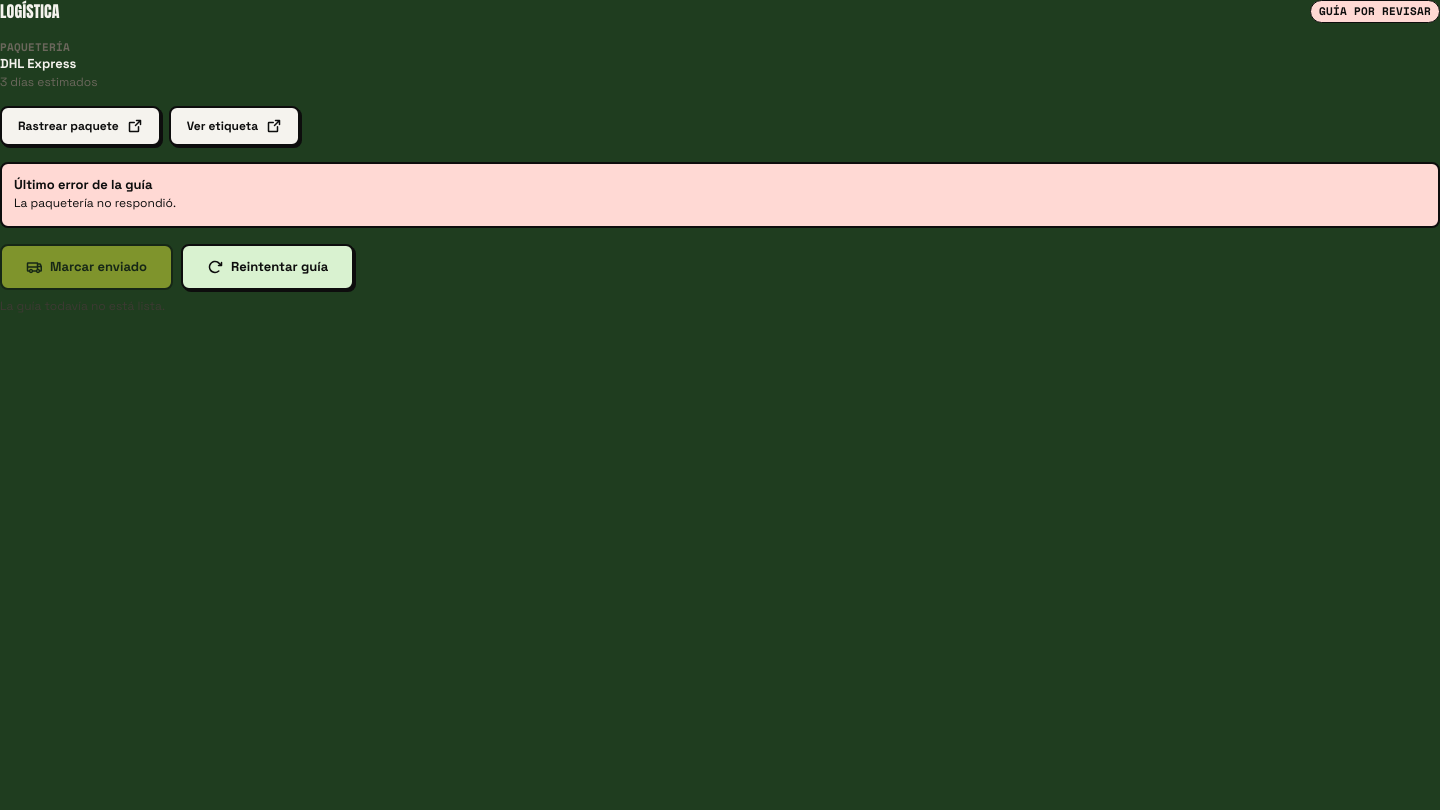
LogisticsCard: reintentar guía › guía por revisar: pide confirmación con la advertencia de la segunda guía
The width and height of the screenshot is (1440, 810).
Check: the text "La paquetería no respondió." is shown, box [14,195,176,211]
Click the button "Reintentar guía" at (268, 267), box [181,244,354,290]
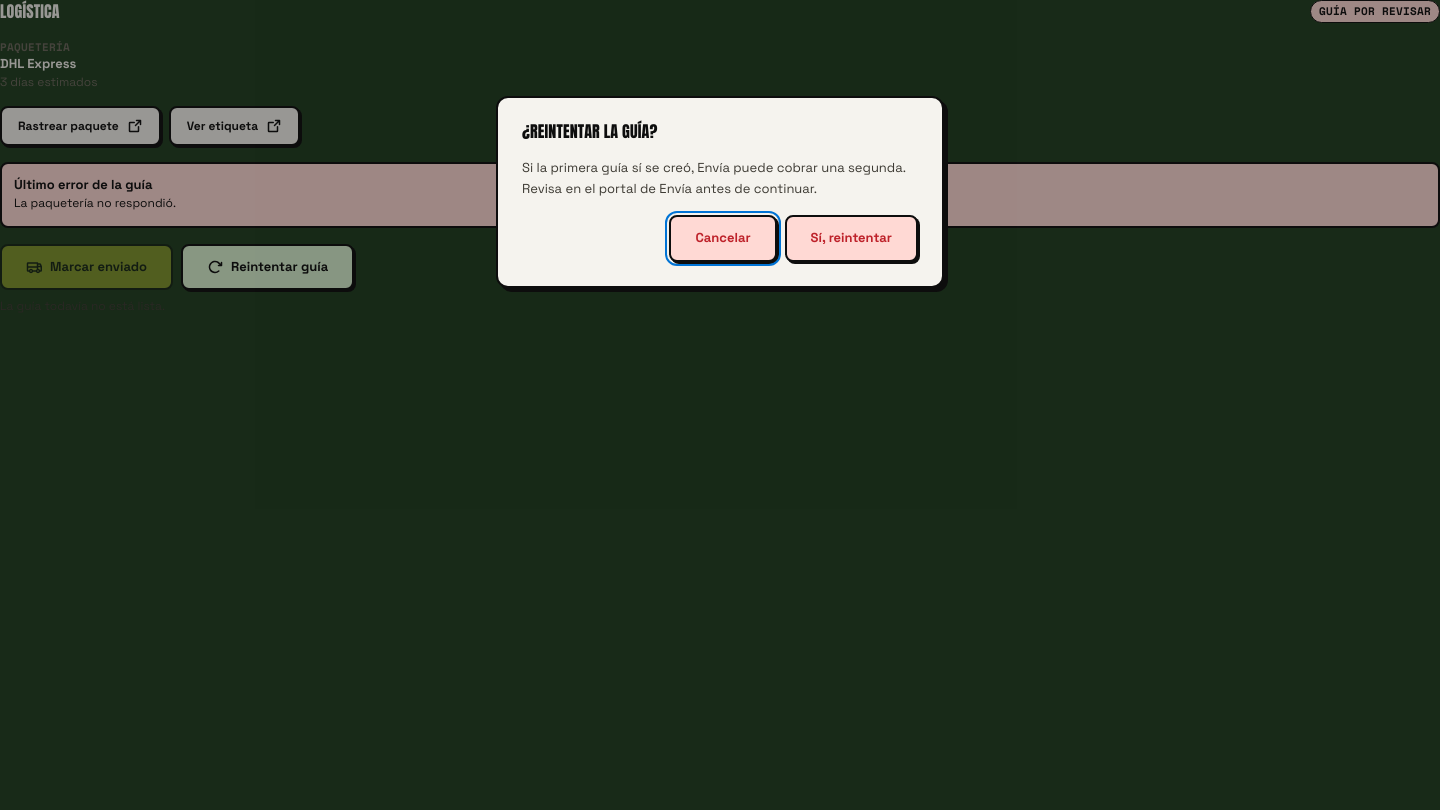
Check: the dialog shows "Envía puede cobrar una segunda", box [522,159,906,197]
Click the button "Sí, reintentar" at (851, 239), box [785,215,918,262]
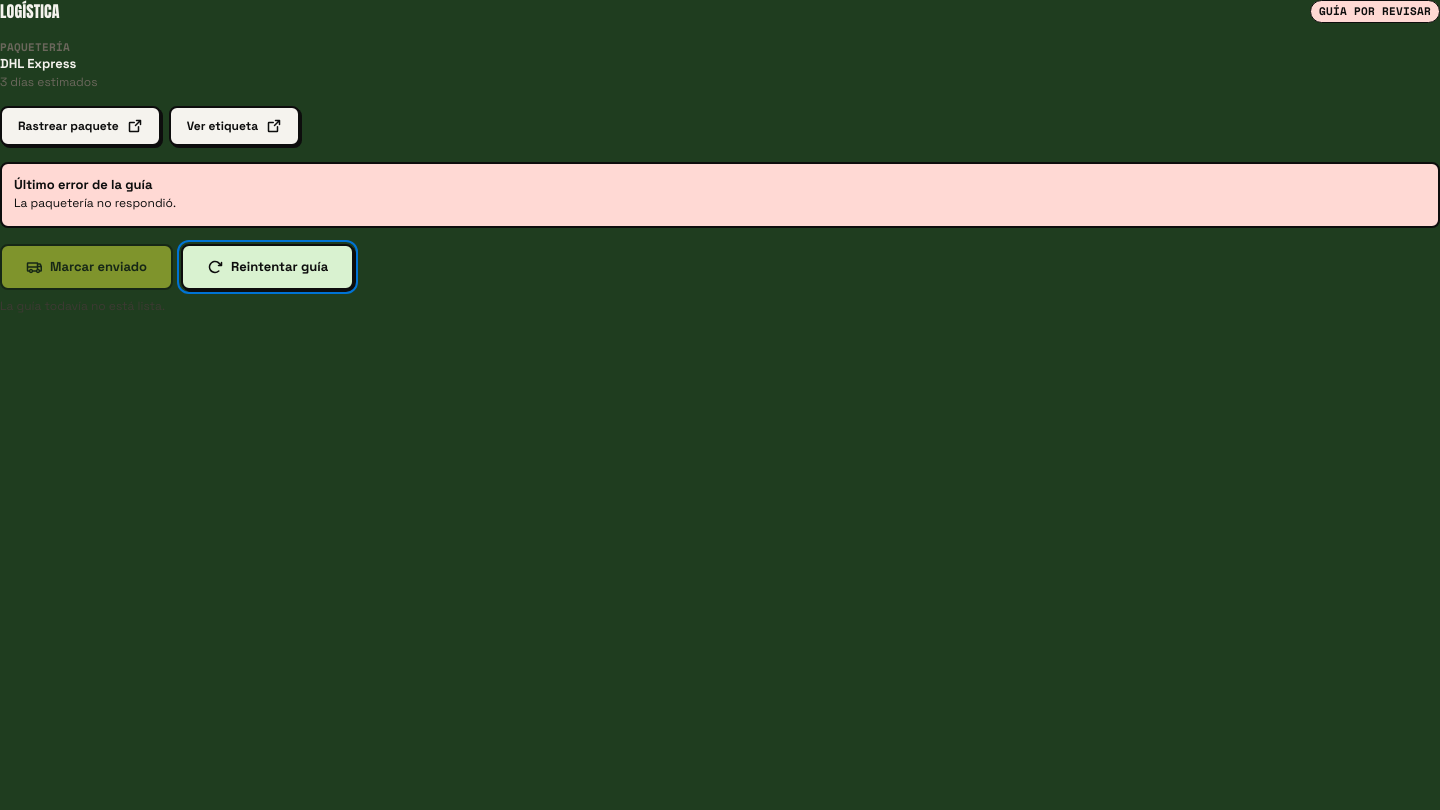
Check: the dialog is gone
